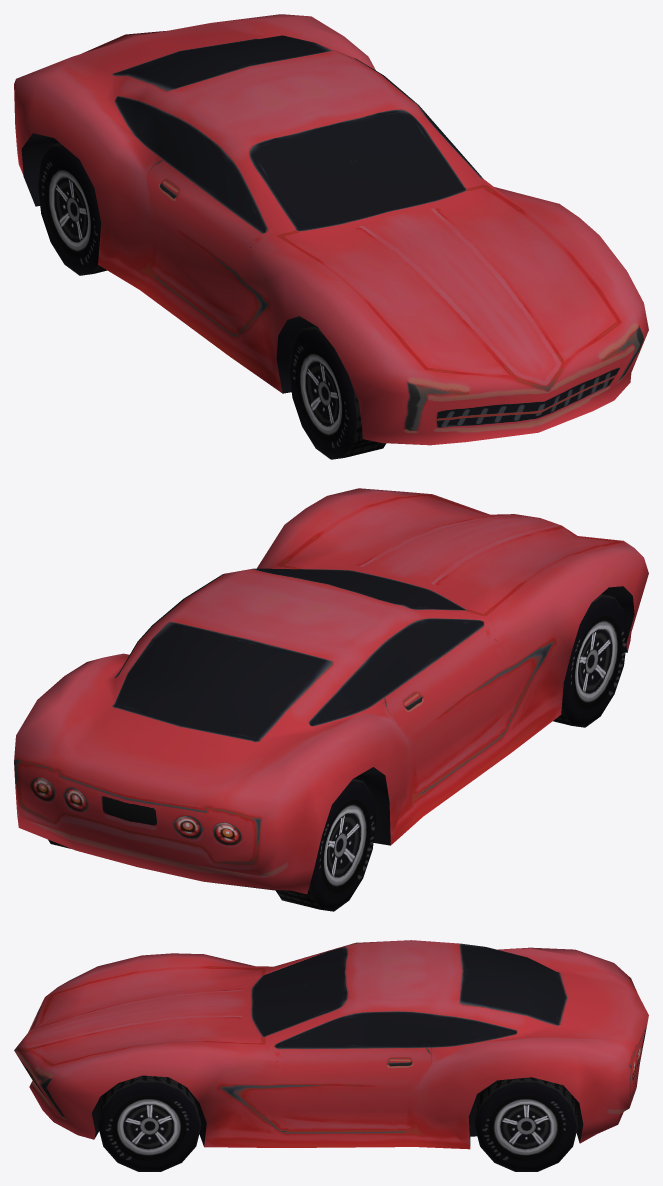
File: Mako.fbx
The picture shows the model from 3 angles, top to bottom: view 1: azimuth 30°, elevation 25°; view 2: azimuth 150°, elevation 25°; view 3: azimuth 270°, elevation 25°; orthographic projection. The views are drawn at different scales.
Visible parts, largest first — view 1: MakoBody, WheelFR, WheelBR; view 2: MakoBody, WheelBR, WheelFR; view 3: MakoBody, WheelBL, WheelFL.
Boxes of the visible parts, <box> form: MakoBody: <box>14,14,648,445</box>; WheelFR: <box>289,325,386,459</box>; WheelBR: <box>37,142,107,275</box>; MakoBody: <box>14,488,648,894</box>; WheelBR: <box>276,778,375,911</box>; WheelFR: <box>553,594,627,727</box>; MakoBody: <box>14,940,648,1149</box>; WheelBL: <box>475,1077,578,1171</box>; WheelFL: <box>98,1075,201,1171</box>.
Bounding box in the file's own units: 194 × 128 × 473.
